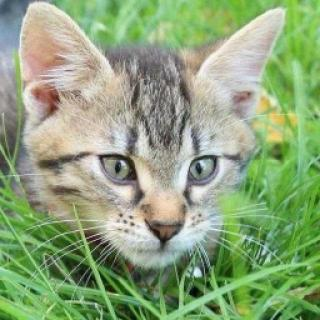cat: (22, 10, 288, 278)
nose: (140, 207, 188, 246)
